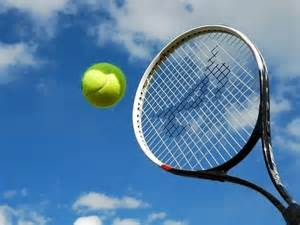tennis_ball: (80, 61, 128, 108)
